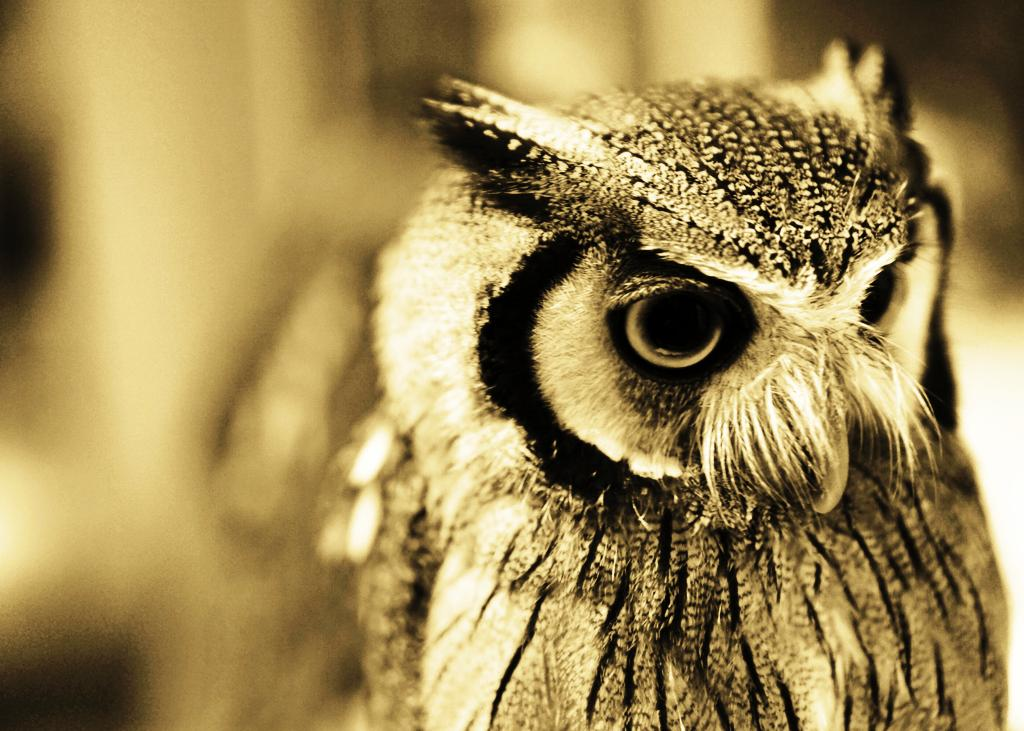Owl: (316, 38, 1010, 730)
